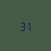one: (25, 20, 30, 30)
three: (19, 20, 24, 31)
